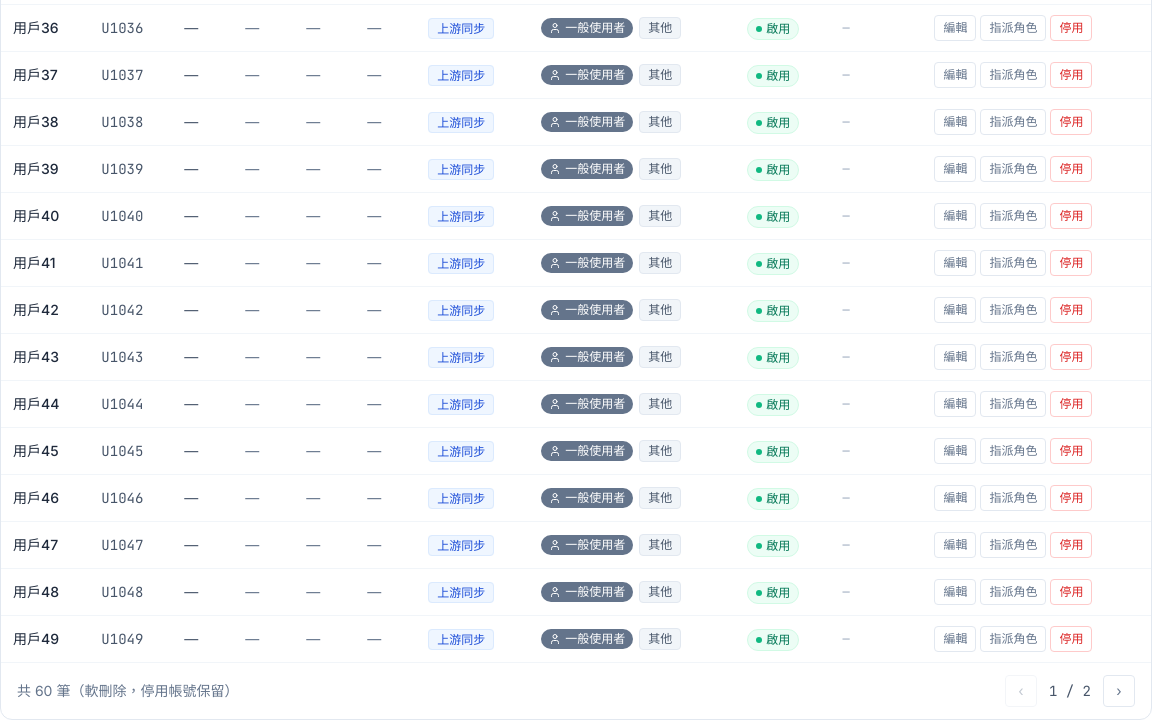
it: AccountManagementPage — F003 帳號與角色管理 › 分頁：每頁 50 筆、可翻頁
The image size is (1152, 720).
(page scrolled)
Check: the text "用戶50" is not shown
Click the button named "下一頁" at x=1119, y=691, box x1=1103 y1=675 x2=1135 y2=707
(page scrolled)
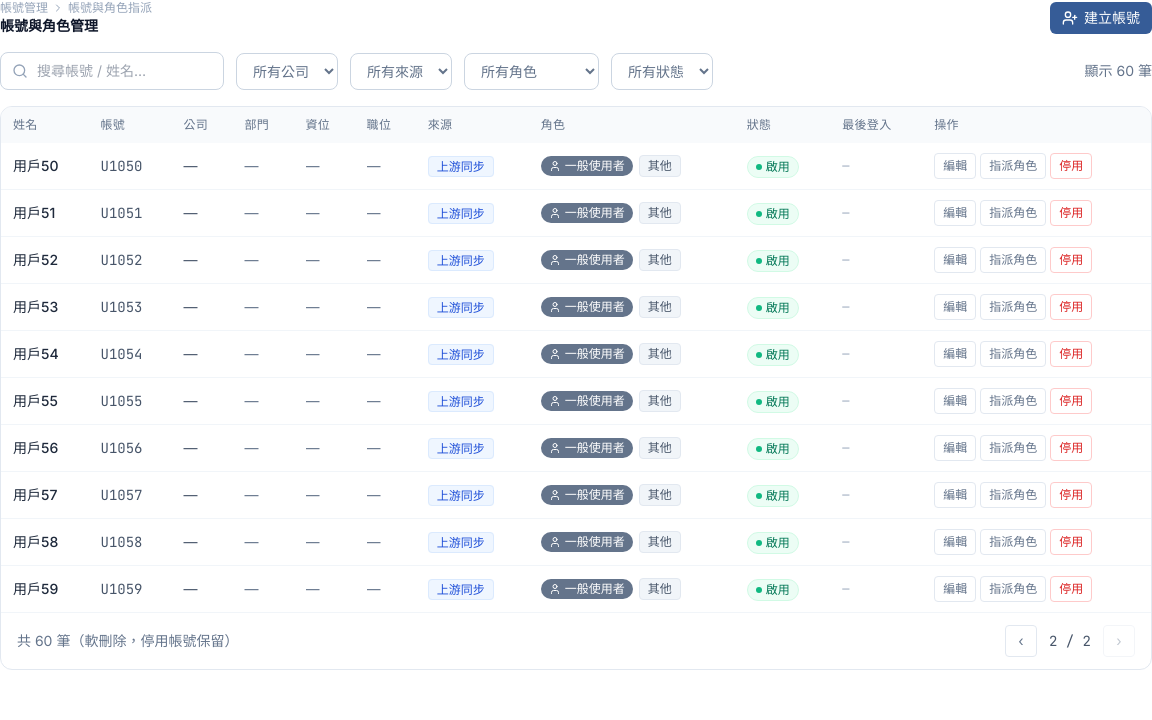
Check: the text "用戶50" is shown, box x1=13 y1=157 x2=58 y2=174
